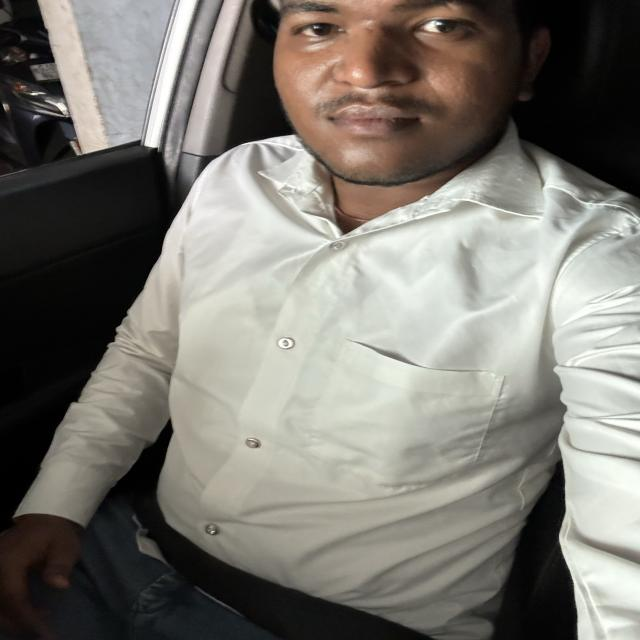no-seatbelt: (175, 180, 552, 513)
